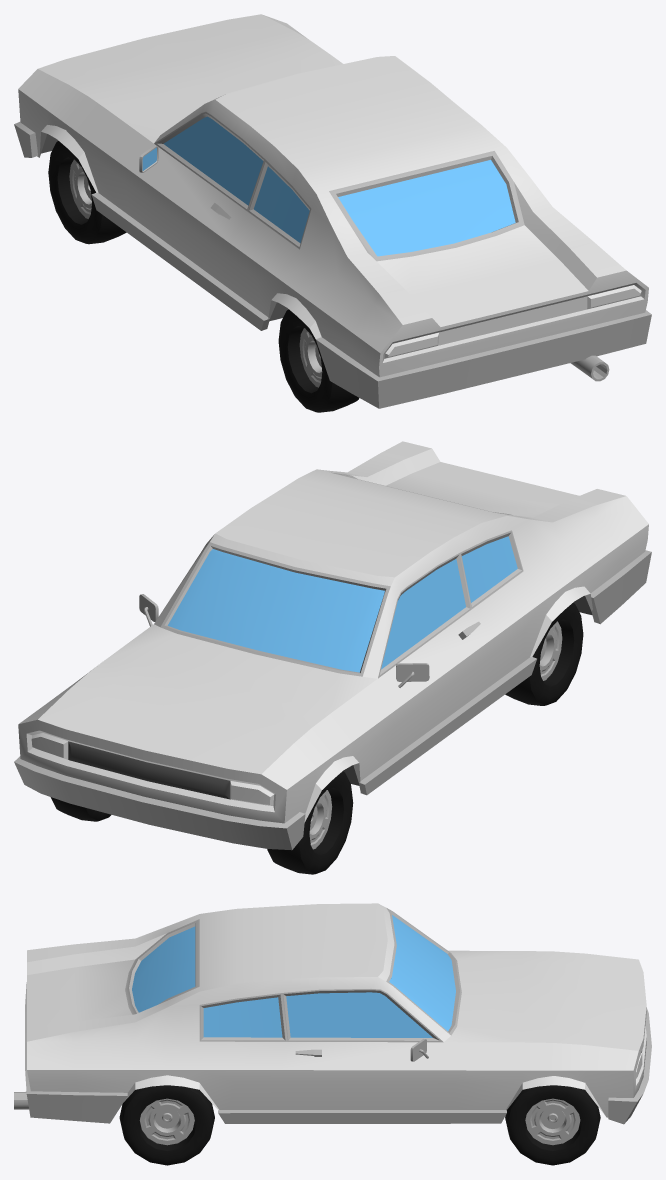
Rendered from dante car.fbx.
3 renders of one model, top to bottom at view 1: azimuth 30°, elevation 25°; view 2: azimuth 150°, elevation 25°; view 3: azimuth 270°, elevation 25°, orthographic. The views are drawn at different scales.
Parts seen in each view (by area): view 1: body; view 2: body; view 3: body.
Part boxes in pixels (x1,y1,x2,y2): body: [14, 14, 651, 412]; body: [14, 441, 651, 874]; body: [14, 903, 651, 1165].
Bounding box in the file's own units: 142 × 98.35 × 322.
